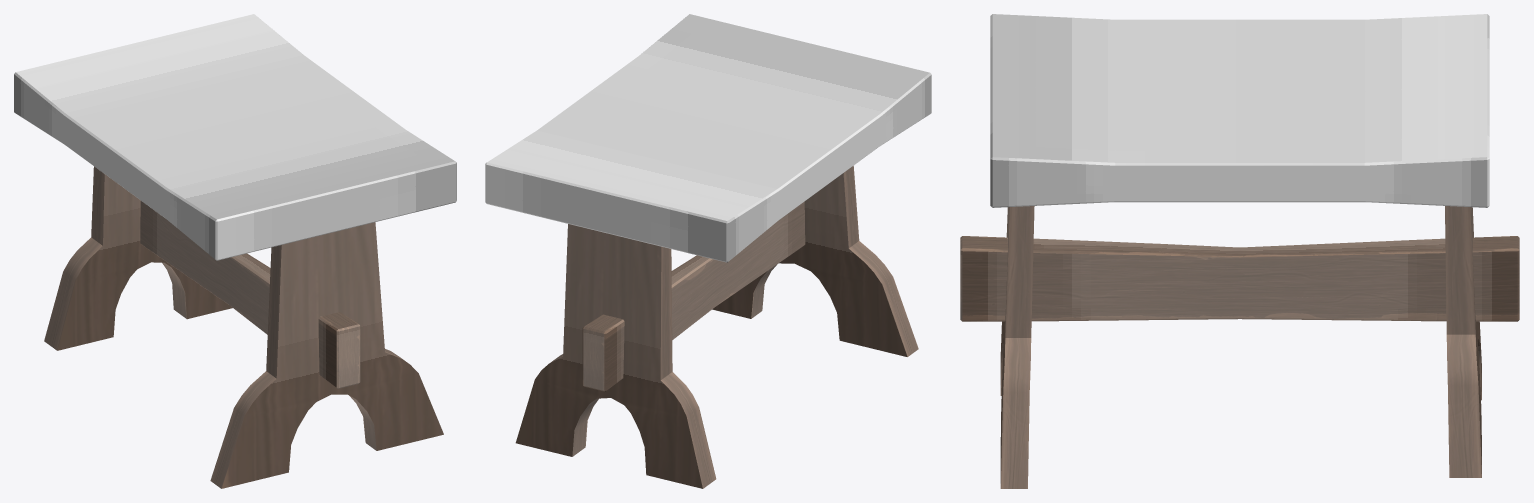
File: SM_StoolStudy.fbx
3 renders of one model, left to right at view 1: azimuth 30°, elevation 25°; view 2: azimuth 150°, elevation 25°; view 3: azimuth 270°, elevation 25°, orthographic. The views are drawn at different scales.
Visible parts, largest first — view 1: SM_StoolStudy_LOD0; view 2: SM_StoolStudy_LOD0; view 3: SM_StoolStudy_LOD0.
Boxes of the visible parts, x1,y1,x2,y2 form: SM_StoolStudy_LOD0: (14,14,456,488); SM_StoolStudy_LOD0: (485,14,931,488); SM_StoolStudy_LOD0: (960,14,1519,488).
Bounding box in the file's own units: 42.08 × 68.65 × 45.57.
